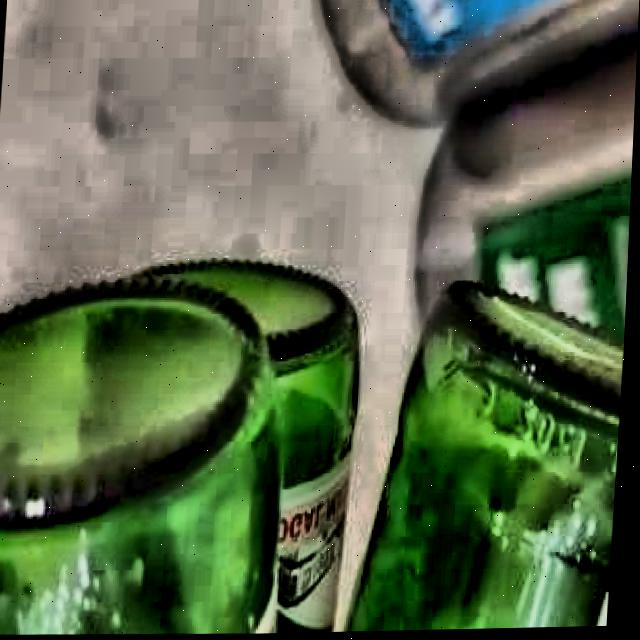glass: (0, 261, 361, 634)
